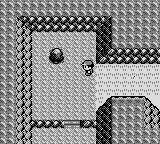main: (81, 61, 94, 75)
no-caminable: (1, 0, 160, 143), (97, 97, 159, 143), (49, 48, 64, 64)
salto: (33, 120, 62, 127), (80, 121, 95, 127)
